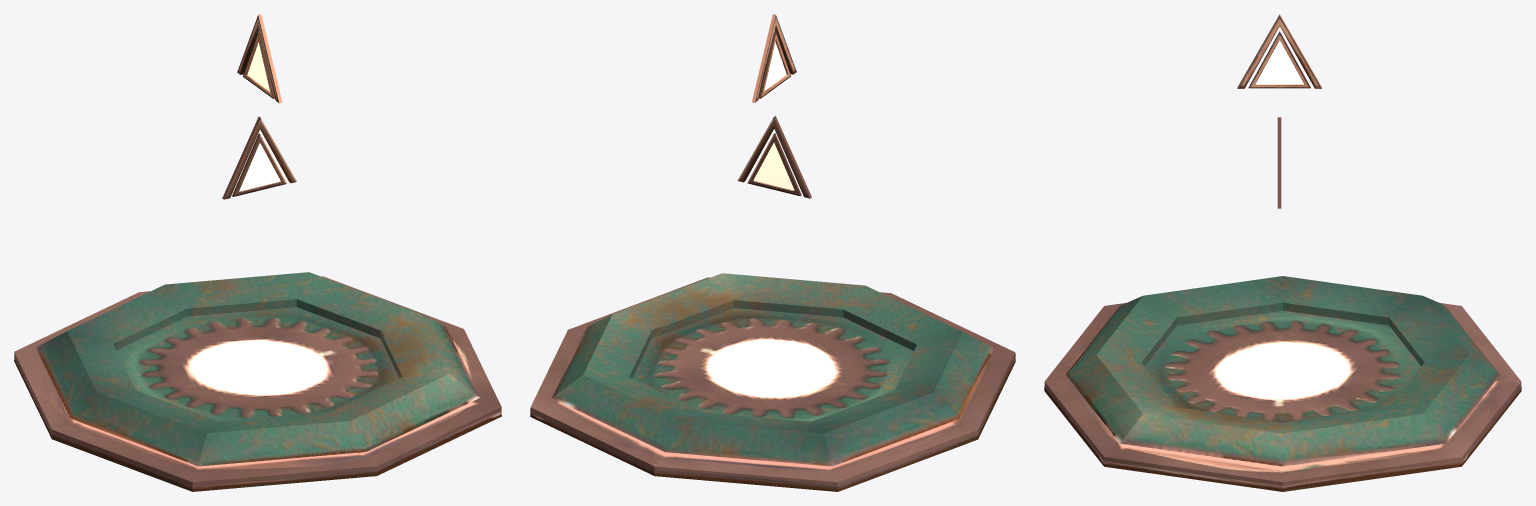
The picture shows the model from 3 angles, left to right: view 1: azimuth 30°, elevation 25°; view 2: azimuth 150°, elevation 25°; view 3: azimuth 270°, elevation 25°; orthographic projection.
Visible parts, largest first — view 1: elevator base; view 2: elevator base; view 3: elevator base.
Boxes of the visible parts, box(x1,y1,x2,y2) form: elevator base: box(14, 14, 501, 491); elevator base: box(530, 14, 1015, 491); elevator base: box(1044, 14, 1521, 491).
Size of what is drawn, in the model's own units: 2.22 by 1.94 by 2.22.
1 material, 1 textured.
